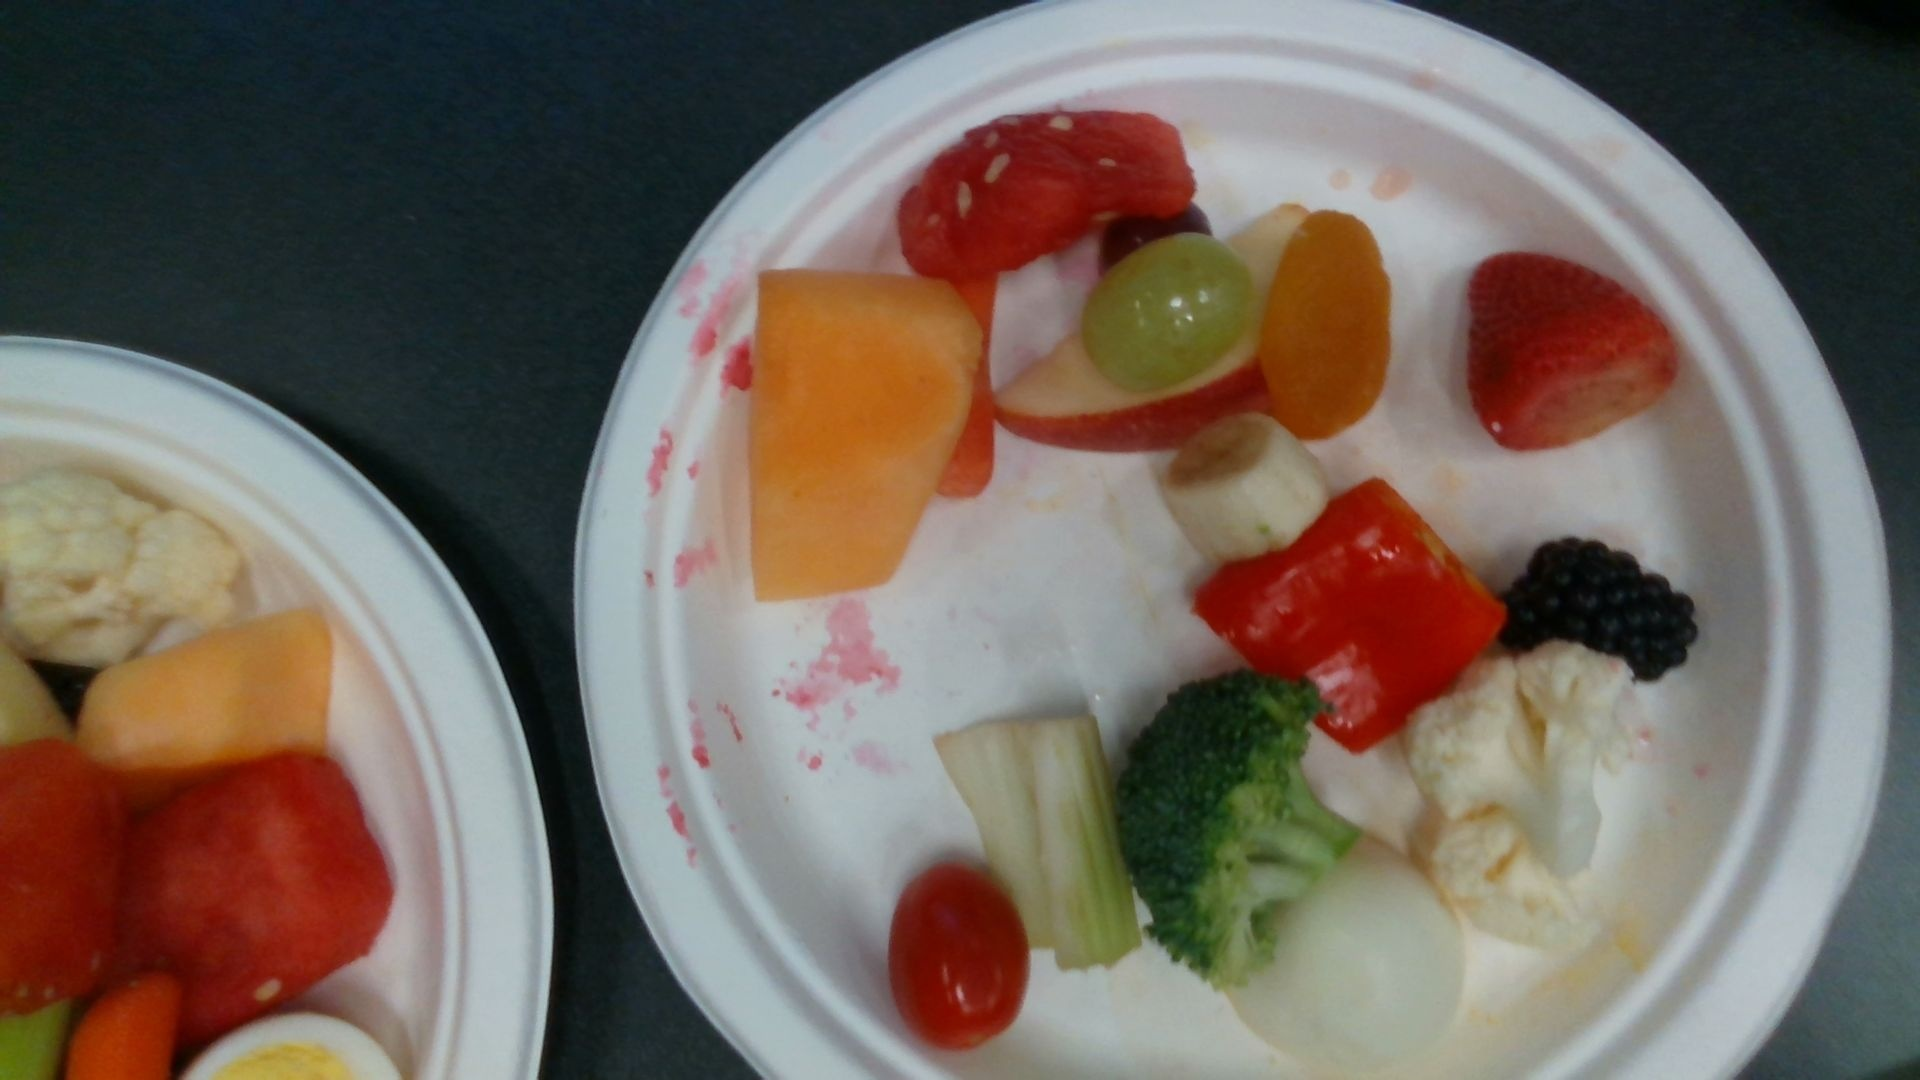apple: (994, 203, 1307, 448)
apricot: (1270, 215, 1395, 440)
banana: (1164, 418, 1327, 555)
bell_pepper: (1195, 483, 1505, 753)
blackberry: (1501, 538, 1695, 680)
broccoli: (1116, 675, 1362, 986)
cantalope: (757, 268, 980, 601), (75, 611, 332, 773)
cauliflower: (1408, 641, 1633, 948), (1, 476, 239, 662)
celery: (940, 715, 1139, 971)
cherry_tomato: (894, 865, 1025, 1048)
egg: (1222, 840, 1458, 1062)
grape_green: (1087, 233, 1247, 386)
melon: (119, 756, 389, 1040), (902, 111, 1192, 262), (1, 742, 109, 1025)
strawberry: (1469, 253, 1680, 450)
